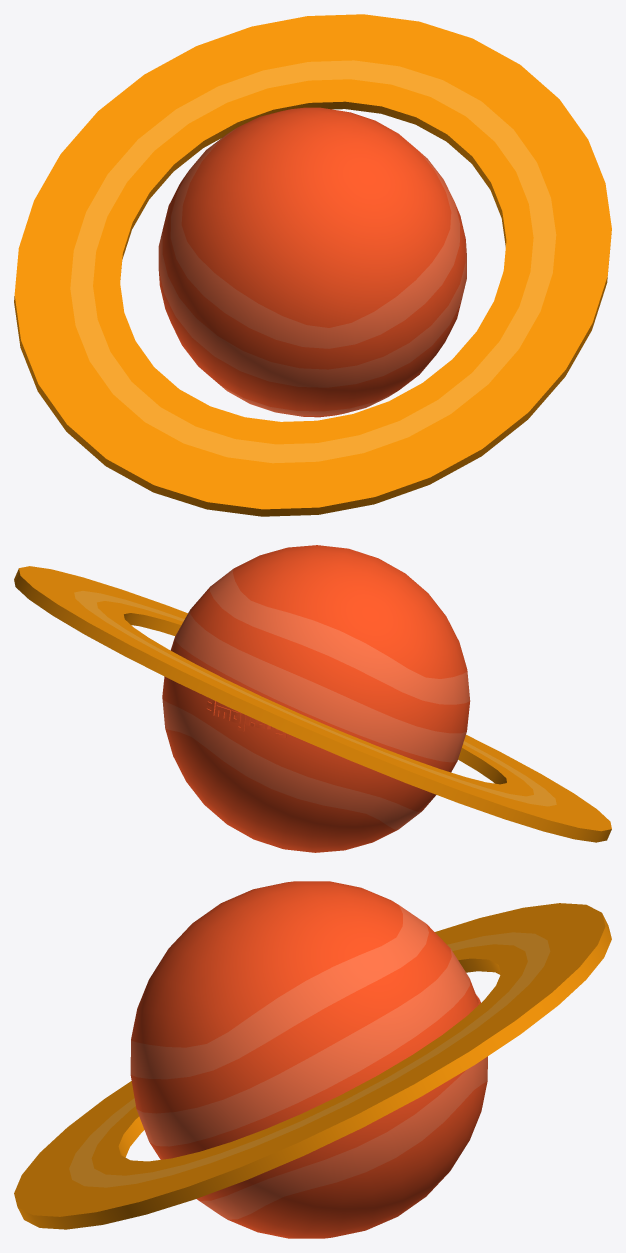
File: ringed_planet.fbx
3 views of the same model, one above another, from view 1: azimuth 30°, elevation 25°; view 2: azimuth 150°, elevation 25°; view 3: azimuth 270°, elevation 25° (orthographic). The views are drawn at different scales.
Visible parts, largest first — view 1: Cube.874; view 2: Cube.874; view 3: Cube.874.
Part boxes in pixels (x1,y1,x2,y2): Cube.874: (14, 14, 611, 516); Cube.874: (14, 545, 611, 852); Cube.874: (14, 881, 611, 1238).
Size of the model in its own units: 242 by 121 by 199.
1 material, 1 textured.
